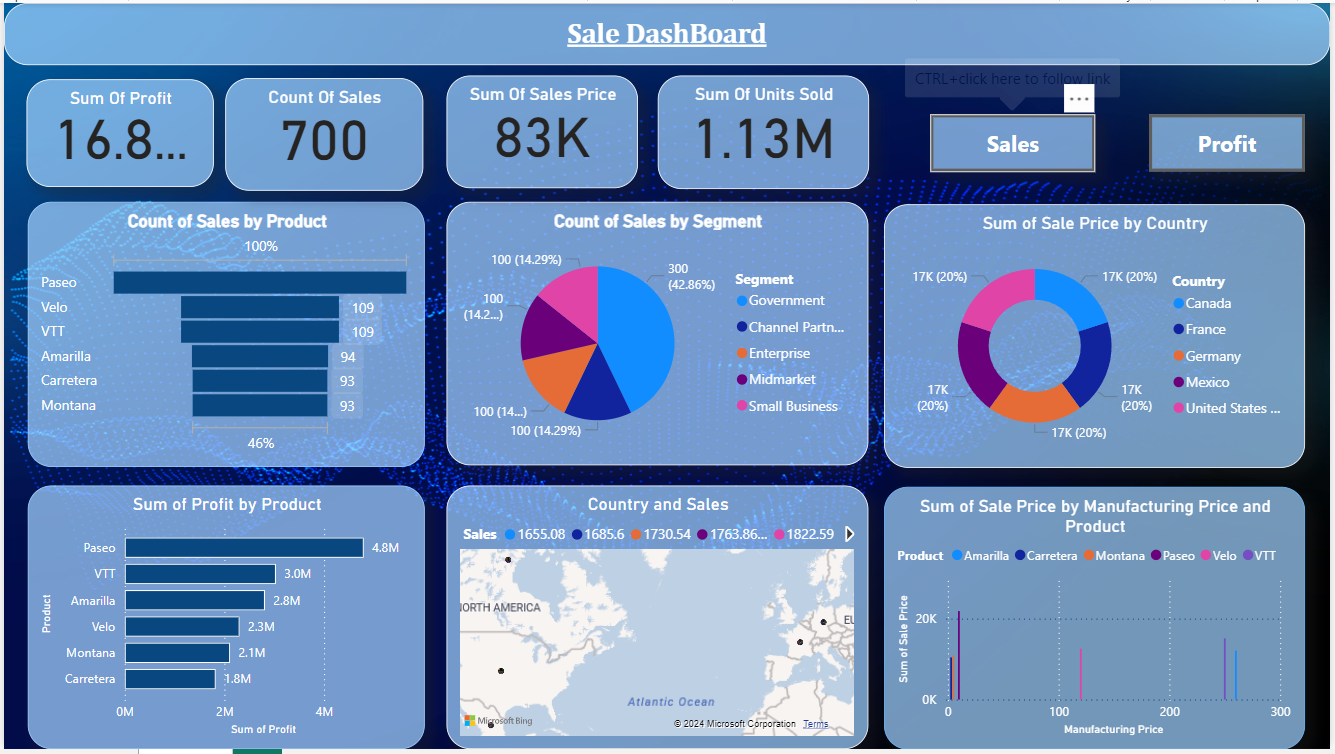

What the dashboard file says about the page in this screenshot:
{"tool":"powerbi","page":{"name":"Page 1","canvas":[1280,720],"ordinal":0},"visuals":[{"type":"clusteredBarChart","fields":{"Category":["financials.Product"],"Y":["Sum(financials.Profit)"]},"box":[22.3,465.5,383.6,254.5],"z":0},{"type":"map","fields":{"Category":["financials.Country"],"Series":["financials. Sales"]},"box":[427,465.5,407.1,254.5],"z":2000},{"type":"funnel","fields":{"Category":["financials.Product"],"Y":["CountNonNull(financials. Sales)"]},"box":[22.3,192.4,383.6,255.7],"z":3000},{"type":"pieChart","fields":{"Category":["financials.Segment"],"Y":["CountNonNull(financials. Sales)"]},"box":[427,192.4,407.1,254.5],"z":4000},{"type":"columnChart","fields":{"Category":["financials.Manufacturing Price"],"Y":["Sum(financials.Sale Price)"],"Series":["financials.Product"]},"box":[849.3,466.9,406.6,253.4],"z":5000},{"type":"card","title":"Sum Of Profit","fields":{"Values":["Sum(financials.Profit)"]},"box":[21.7,73.7,180.8,104.1],"z":6000},{"type":"card","title":"Count Of Sales","fields":{"Values":["CountNonNull(financials. Sales)"]},"box":[214,72.3,190.9,108.5],"z":7000},{"type":"card","title":"Sum Of Sales Price","fields":{"Values":["Sum(financials.Sale Price)"]},"box":[426.6,69.4,185.1,108.5],"z":8000},{"type":"card","title":"Sum Of Units Sold","fields":{"Values":["Sum(financials.Units Sold)"]},"box":[630.5,69.4,203.9,109.9],"z":9000},{"type":"textbox","box":[0,0,1280,60.3],"z":10000},{"type":"actionButton","box":[894,107.4,159.3,55.5],"z":11000},{"type":"actionButton","box":[1104.8,107.4,150.7,55.4],"z":12000},{"type":"donutChart","fields":{"Category":["financials.Country"],"Y":["Sum(financials.Sale Price)"]},"box":[848.8,193.8,406.3,254.5],"z":15000}]}

Visuals, with their boxes in screenshot pixels (x1, y1, x2, y2), scaled from the page's 1280x720 canvas onto the 1335x754 screenshot:
clusteredBarChart - financials.Product x Sum(financials.Profit): box(23, 487, 423, 753)
map - financials.Country x financials. Sales: box(445, 487, 870, 753)
funnel - financials.Product x CountNonNull(financials. Sales): box(23, 201, 423, 469)
pieChart - financials.Segment x CountNonNull(financials. Sales): box(445, 201, 870, 468)
columnChart - financials.Manufacturing Price x Sum(financials.Sale Price): box(886, 489, 1310, 753)
"Sum Of Profit" card: box(23, 77, 211, 186)
"Count Of Sales" card: box(223, 76, 422, 189)
"Sum Of Sales Price" card: box(445, 73, 638, 186)
"Sum Of Units Sold" card: box(658, 73, 870, 188)
textbox: box(0, 0, 1334, 63)
actionButton: box(932, 112, 1099, 171)
actionButton: box(1152, 112, 1309, 170)
donutChart - financials.Country x Sum(financials.Sale Price): box(885, 203, 1309, 469)
